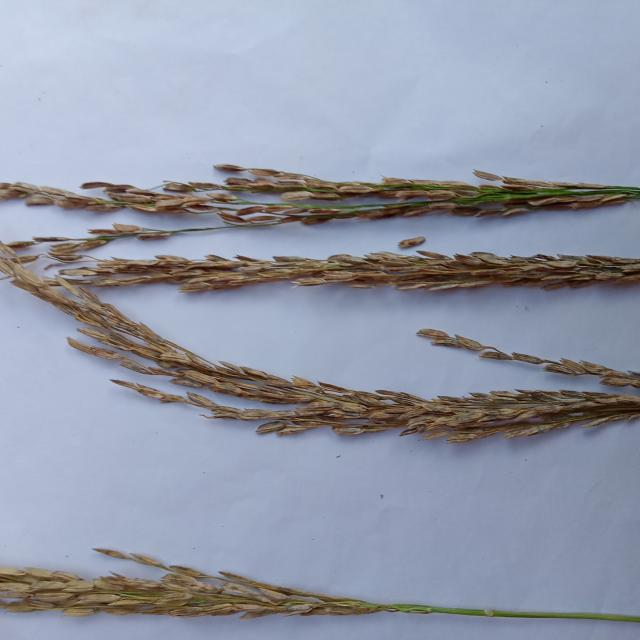Neck_Blast: (11, 274, 640, 433), (113, 172, 640, 221), (100, 253, 640, 289), (1, 570, 394, 618)
